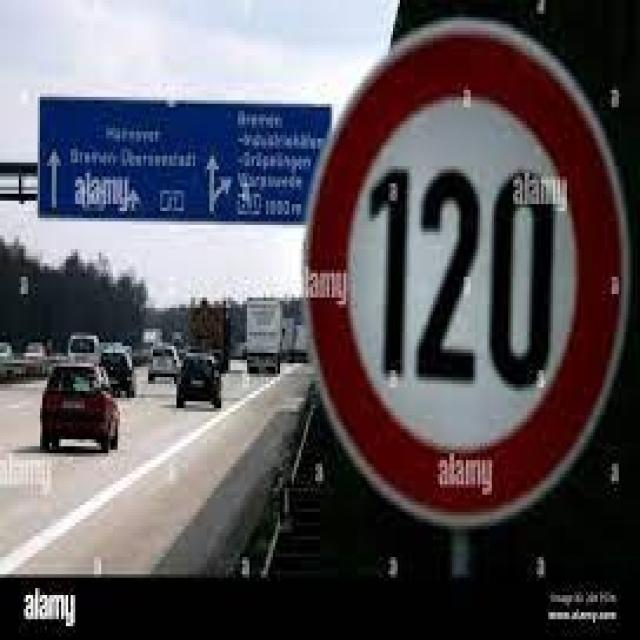speed_limit_120: (298, 13, 633, 533)
